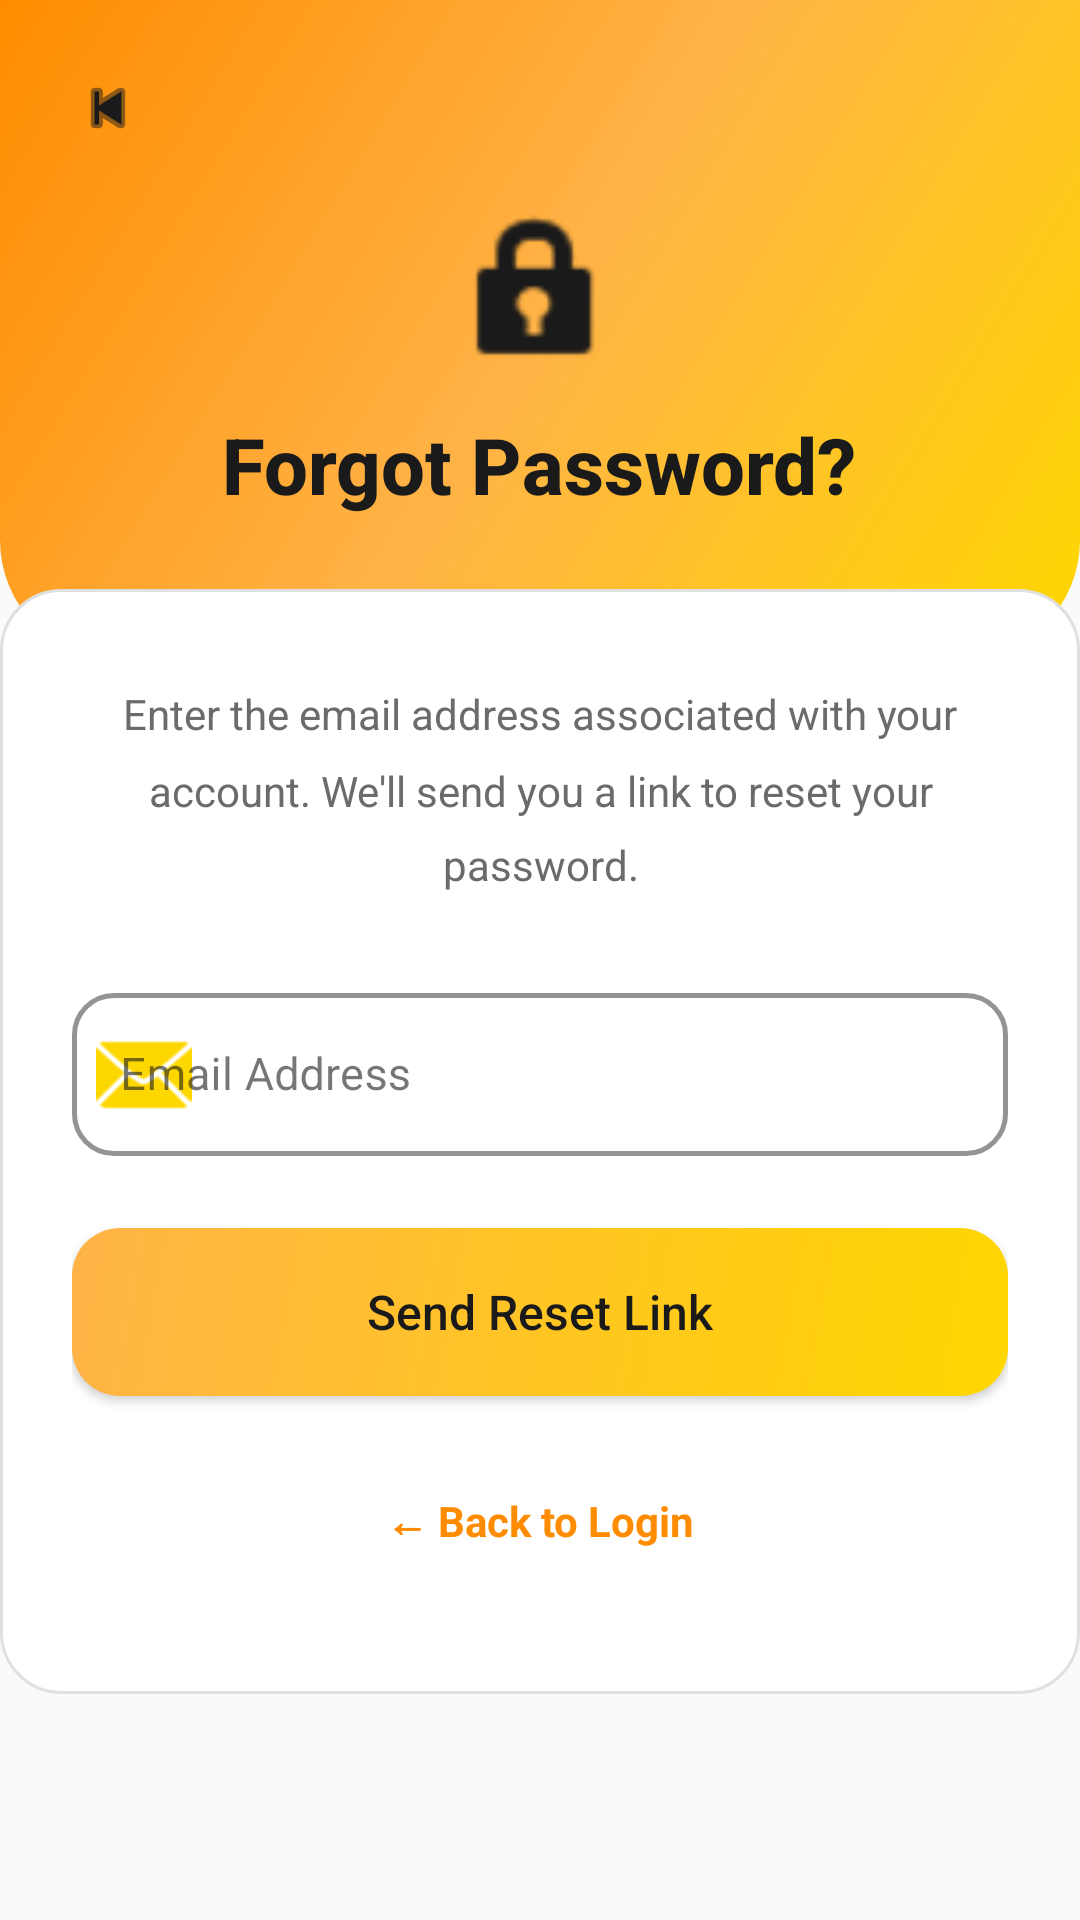

Named icons in this screenshot (1080w x 1920h) and their bounding boxes, box(x1, y1, x2, y2):
Back: box(91, 88, 125, 128)
Lock icon: box(476, 217, 594, 355)
